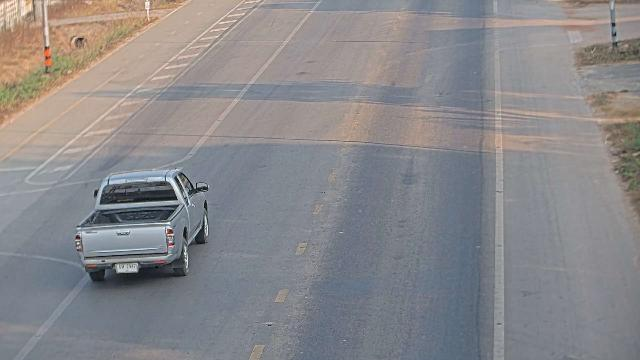pickup-truck: (74, 166, 210, 282)
